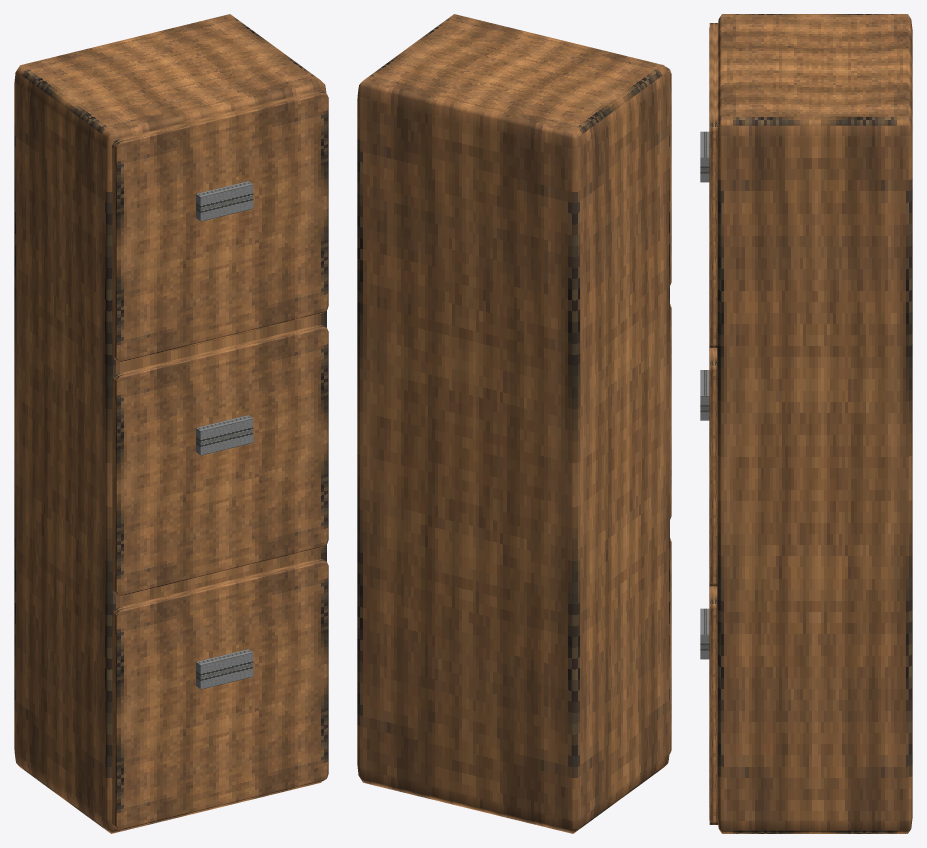
File: pantry.glb
3 views of the same model, side by side, from view 1: azimuth 30°, elevation 25°; view 2: azimuth 150°, elevation 25°; view 3: azimuth 270°, elevation 25° (orthographic).
Parts seen in each view (by area): view 1: front (×3), case, pull (×3); view 2: case; view 3: case, front (×3), pull (×3).
Boxes of the visible parts, x1,y1,x2,y2 form: front (×3): [112, 90, 328, 830]; case: [14, 14, 326, 833]; pull (×3): [196, 181, 253, 689]; case: [357, 14, 669, 833]; case: [717, 14, 912, 833]; front (×3): [709, 23, 718, 824]; pull (×3): [700, 131, 709, 659].
Size of the model in its own units: 0.6 by 1.82 by 0.49.
2 materials, 2 textured.
